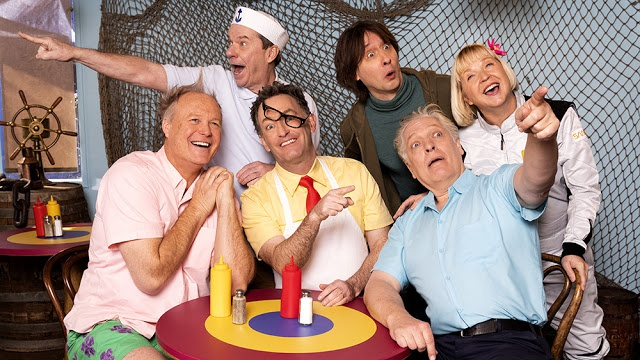bad: (170, 101, 232, 163), (406, 124, 458, 176), (458, 55, 510, 107), (256, 107, 308, 159), (210, 26, 262, 78), (362, 41, 405, 84)
